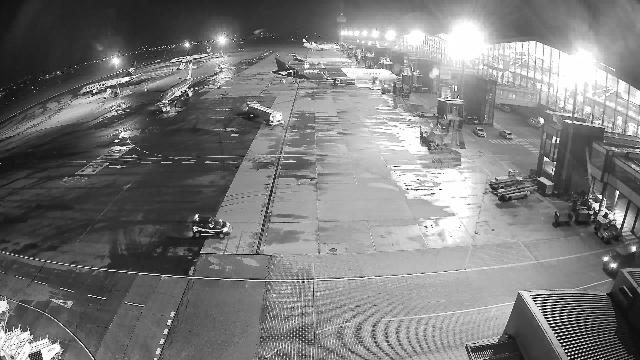Aircraft: (271, 52, 398, 86), (145, 62, 221, 102), (80, 61, 143, 94), (170, 46, 214, 63), (288, 53, 353, 64), (303, 39, 340, 49)
Airport_Tractor: (593, 218, 613, 242), (603, 216, 621, 240), (586, 194, 606, 211), (420, 127, 428, 140), (381, 86, 392, 92), (280, 78, 286, 83)
Baggage_Trolley: (536, 177, 554, 195), (554, 210, 573, 225), (572, 199, 588, 213), (575, 211, 592, 223), (593, 210, 609, 220)
Conveyor_Belt: (494, 176, 537, 201), (489, 169, 529, 190), (413, 106, 437, 118)
Fuel_Tuck: (246, 101, 284, 125)
Ground_Crew: (174, 100, 177, 108)
Pushback_Tug: (158, 102, 171, 112)
